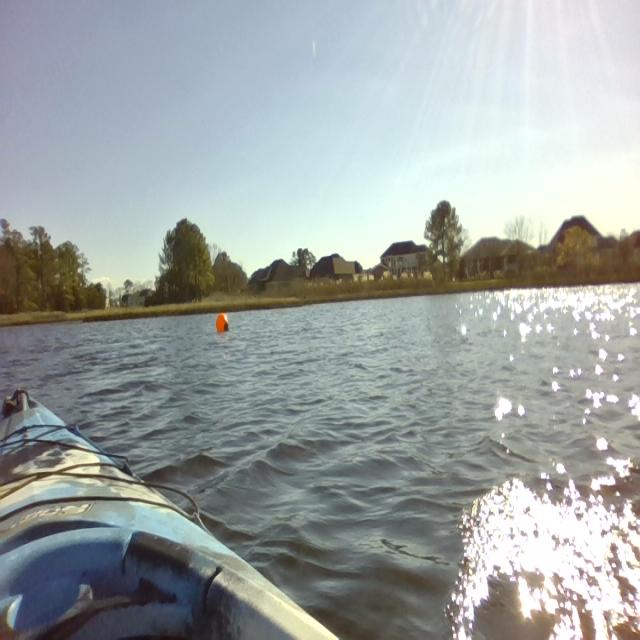Buoy: (208, 303, 234, 338)
